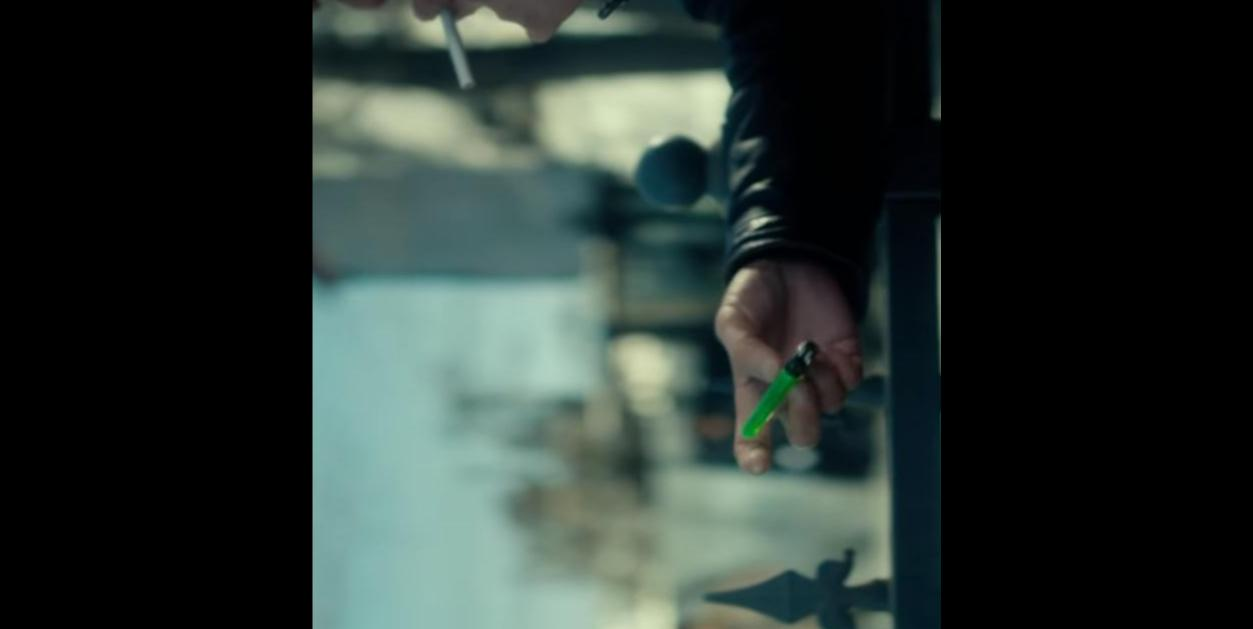Cigarette: (433, 0, 482, 87)
Vape: (728, 339, 818, 439)
